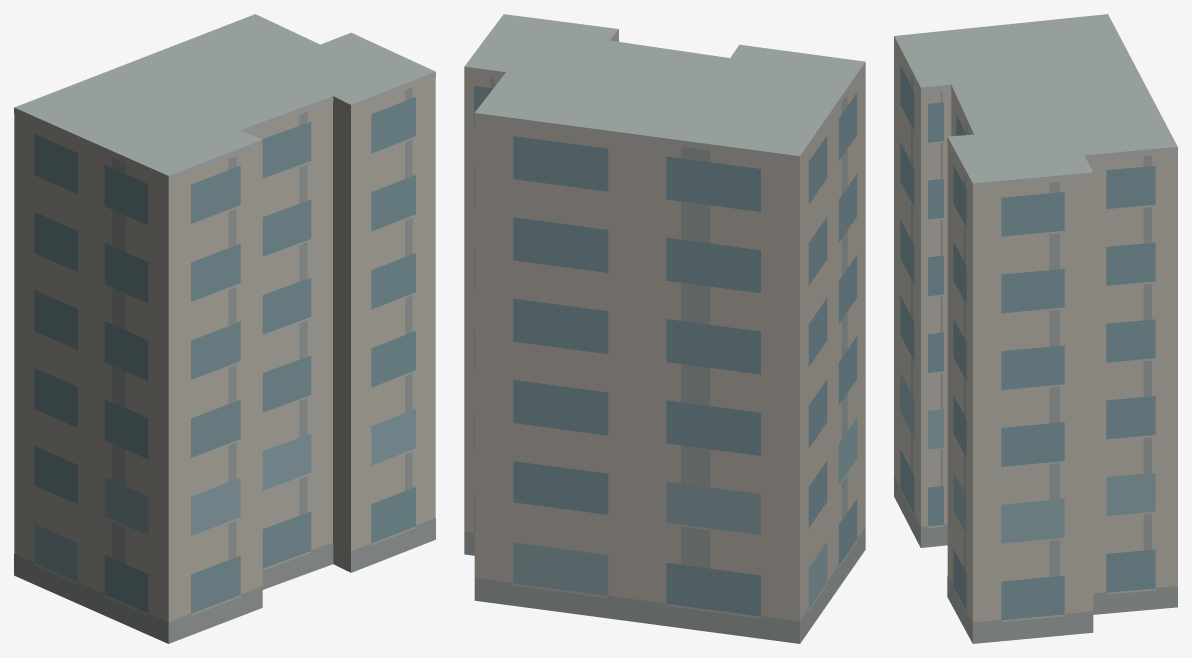
The model's file is survey-upis-32806190.glb.
3 views of the same model, side by side, from view 1: azimuth 30°, elevation 25°; view 2: azimuth 150°, elevation 25°; view 3: azimuth 270°, elevation 25° (orthographic). The views are drawn at different scales.
Visible parts, largest first — view 1: survey-upis-32806190.tmp; view 2: survey-upis-32806190.tmp; view 3: survey-upis-32806190.tmp.
Part boxes in pixels (bbox=[...]): survey-upis-32806190.tmp: bbox=[14, 14, 435, 643]; survey-upis-32806190.tmp: bbox=[464, 14, 865, 643]; survey-upis-32806190.tmp: bbox=[894, 14, 1177, 643].
Size of the model in its own units: 14.38 by 18.2 by 10.17.
